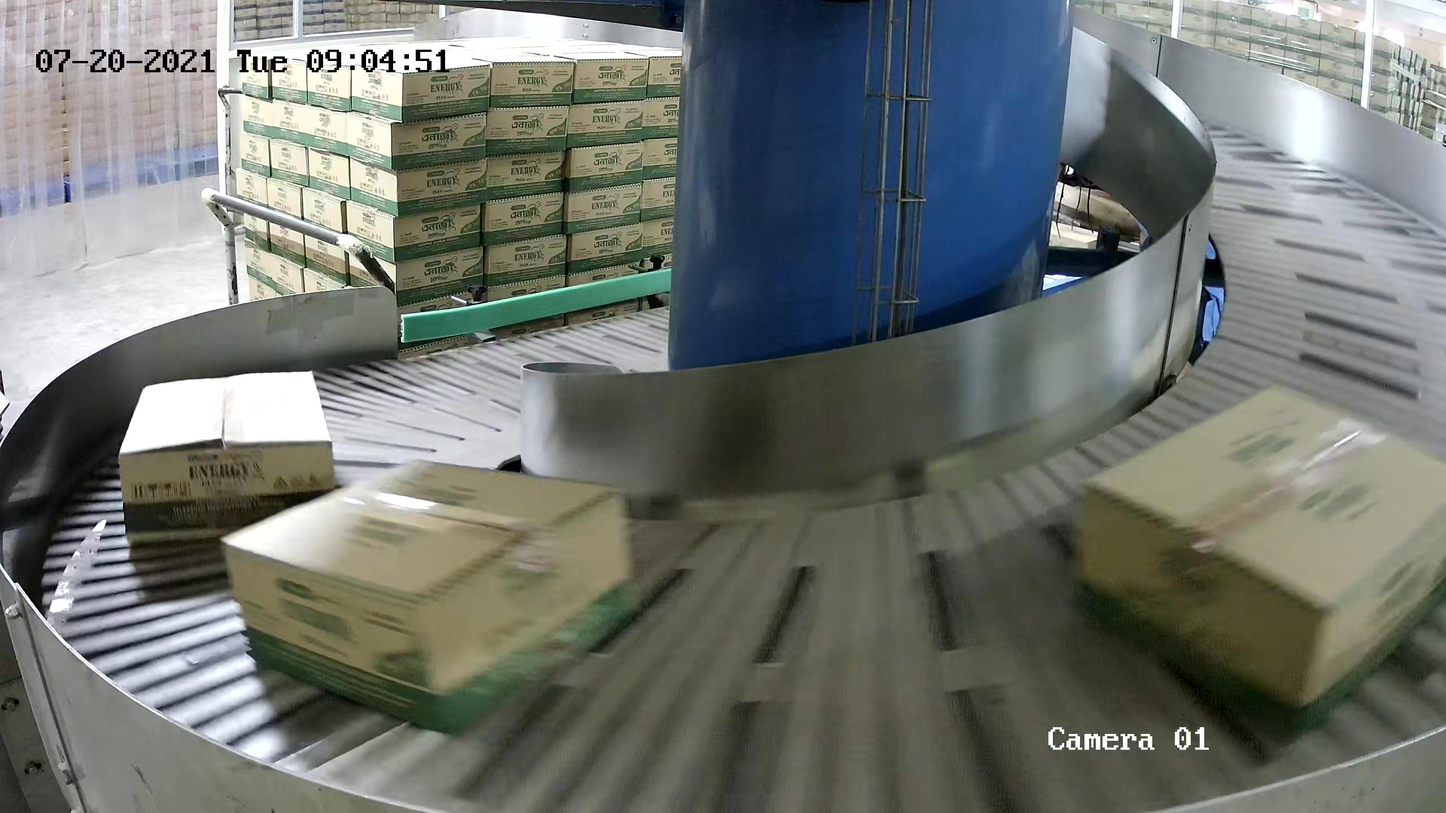Box: (1072, 378, 1446, 748), (220, 455, 642, 736), (117, 370, 342, 544)
